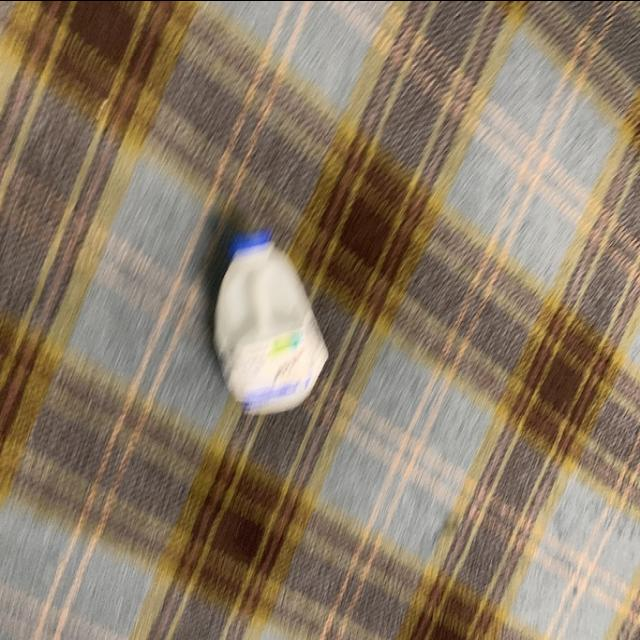HDPEM: (208, 224, 334, 418)
